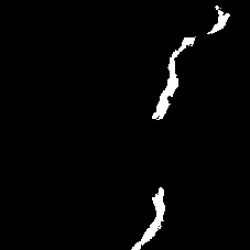crack: (152, 35, 195, 123), (130, 185, 167, 247), (208, 4, 230, 39)
